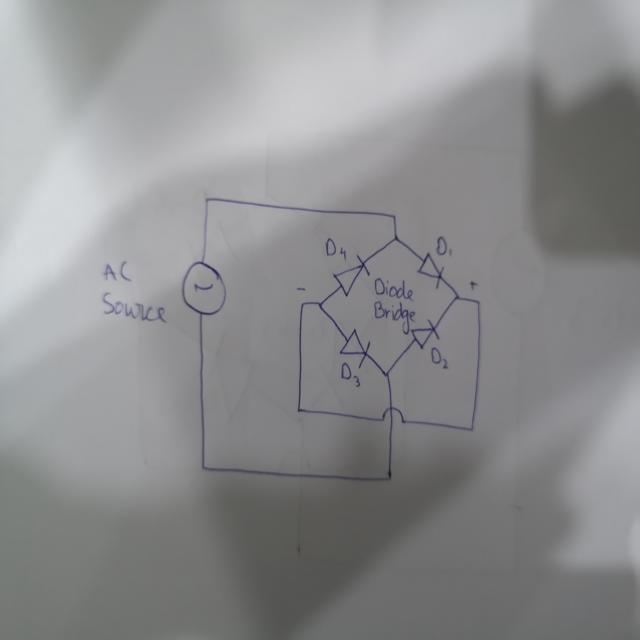crossover: (378, 405, 406, 425)
diode: (333, 255, 368, 295), (341, 329, 372, 368), (418, 254, 448, 291), (408, 318, 440, 350)
junction: (198, 459, 208, 475), (202, 192, 212, 208), (382, 368, 392, 380), (384, 470, 394, 482), (315, 298, 324, 310), (391, 232, 400, 243), (389, 211, 398, 221), (295, 404, 303, 415), (298, 299, 306, 309), (474, 297, 482, 306), (468, 423, 474, 434), (453, 293, 460, 301)
source: (179, 257, 228, 318)
text: (100, 289, 168, 326), (372, 299, 418, 335), (374, 276, 414, 304), (100, 259, 134, 284), (324, 237, 348, 260), (340, 357, 359, 386), (429, 347, 448, 371), (434, 234, 452, 258), (292, 284, 306, 293), (467, 278, 477, 290)
